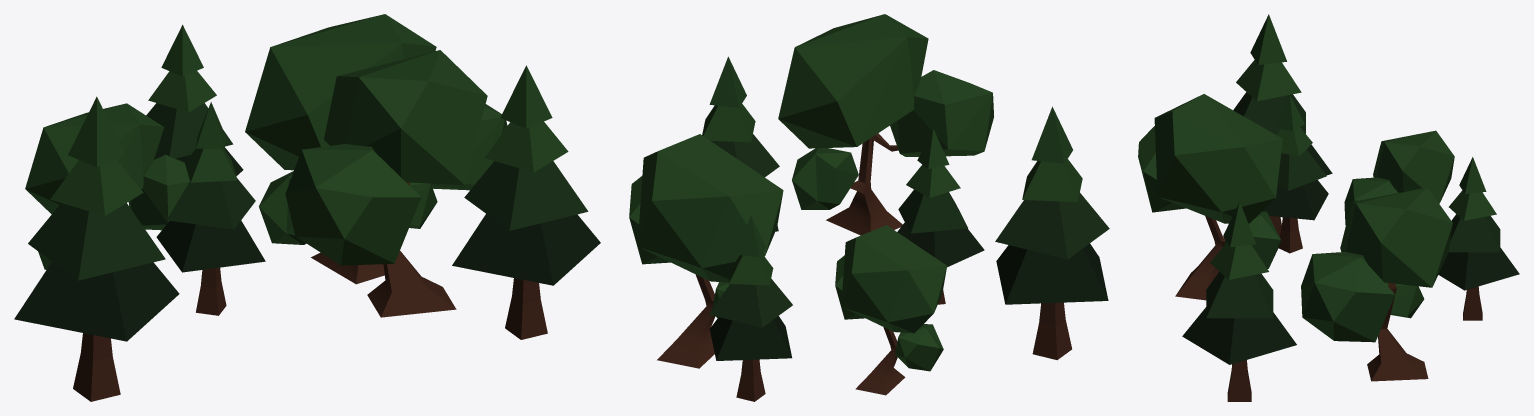
Rendered from grupo arboles.FBX.
3 views of the same model, side by side, from view 1: azimuth 30°, elevation 25°; view 2: azimuth 150°, elevation 25°; view 3: azimuth 270°, elevation 25° (orthographic). The views are drawn at different scales.
Parts seen in each view (by area): view 1: pino015, pino013, pino017, pino016, pino018, pino019, pino014; view 2: pino015, pino016, pino013, pino019, pino014, pino018, pino017; view 3: pino016, pino015, pino017, pino014, pino019, pino018, pino013.
Part boxes in pixels (x1,y1,x2,y2): pino015: [285, 50, 487, 317]; pino013: [14, 96, 179, 401]; pino017: [452, 65, 600, 339]; pino016: [245, 14, 507, 284]; pino018: [156, 102, 265, 315]; pino019: [25, 103, 189, 269]; pino014: [146, 24, 243, 175]; pino015: [778, 14, 993, 235]; pino016: [629, 134, 783, 368]; pino013: [995, 106, 1109, 360]; pino019: [835, 225, 946, 395]; pino014: [709, 215, 792, 401]; pino018: [897, 128, 984, 304]; pino017: [702, 56, 779, 231]; pino016: [1301, 187, 1452, 381]; pino015: [1138, 94, 1282, 300]; pino017: [1182, 201, 1296, 401]; pino014: [1438, 157, 1519, 320]; pino019: [1344, 130, 1454, 225]; pino018: [1262, 95, 1328, 253]; pino013: [1233, 14, 1332, 236].
Size of the model in its own units: 184 by 102 by 150.
